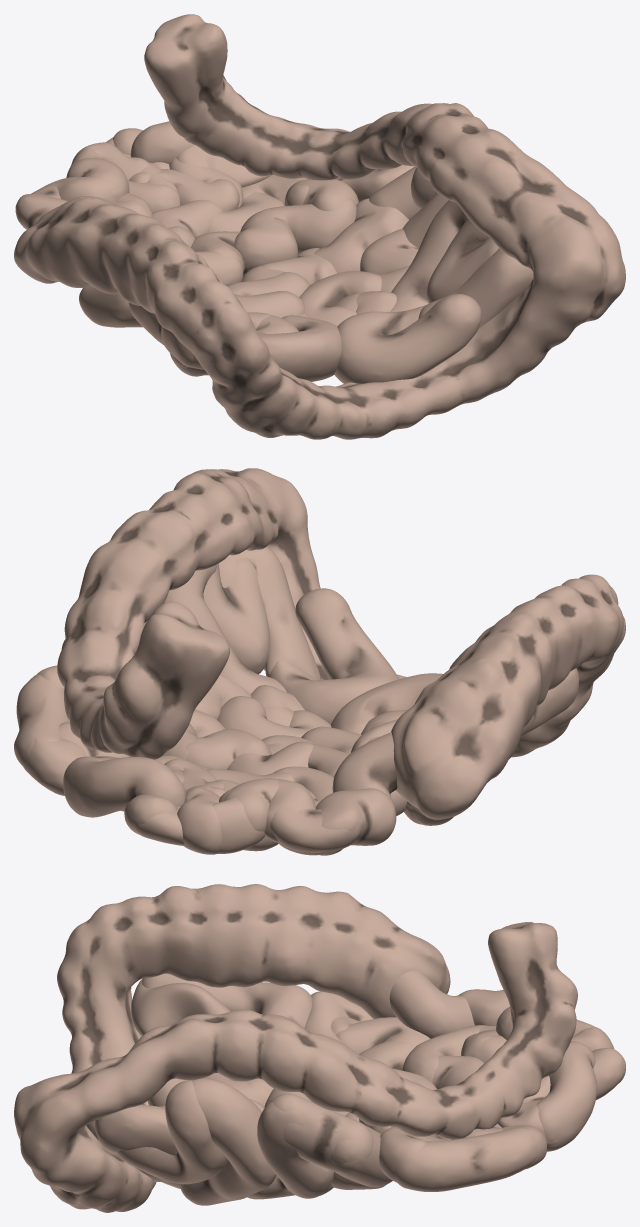
The model's file is intestine.5d55d565a4.glb.
The picture shows the model from 3 angles, top to bottom: view 1: azimuth 30°, elevation 25°; view 2: azimuth 150°, elevation 25°; view 3: azimuth 270°, elevation 25°; orthographic projection. The views are drawn at different scales.
Visible parts, largest first — view 1: FMA14543nsn, FMA7207, FMA7208; view 2: FMA14543nsn, FMA7208, FMA7207; view 3: FMA14543nsn, FMA7207, FMA7208.
Part boxes in pixels (box(x1,y1,x2,y2)): FMA14543nsn: box(14, 14, 625, 439); FMA7207: box(128, 166, 533, 383); FMA7208: box(15, 121, 414, 327); FMA14543nsn: box(57, 468, 625, 819); FMA7208: box(14, 665, 453, 855); FMA7207: box(61, 546, 578, 754); FMA14543nsn: box(14, 884, 577, 1212); FMA7207: box(86, 973, 392, 1205); FMA7208: box(304, 971, 625, 1191).
Size of the model in its own units: 217 by 126 by 260.
